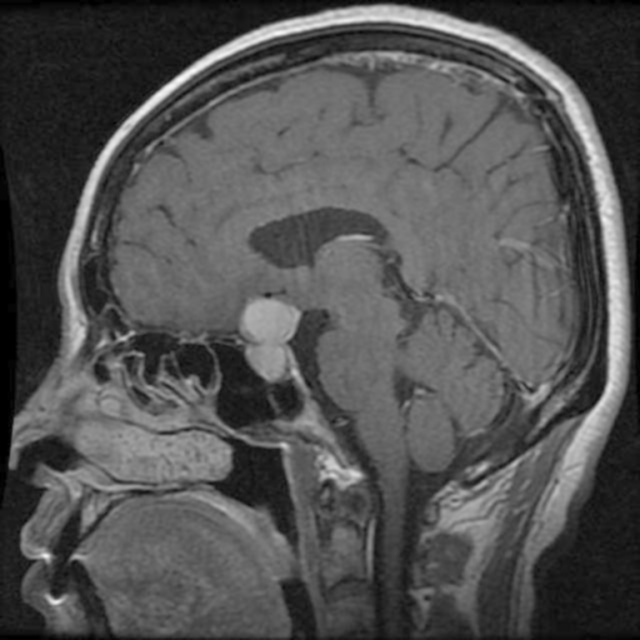no tumor: (229, 288, 309, 390)
